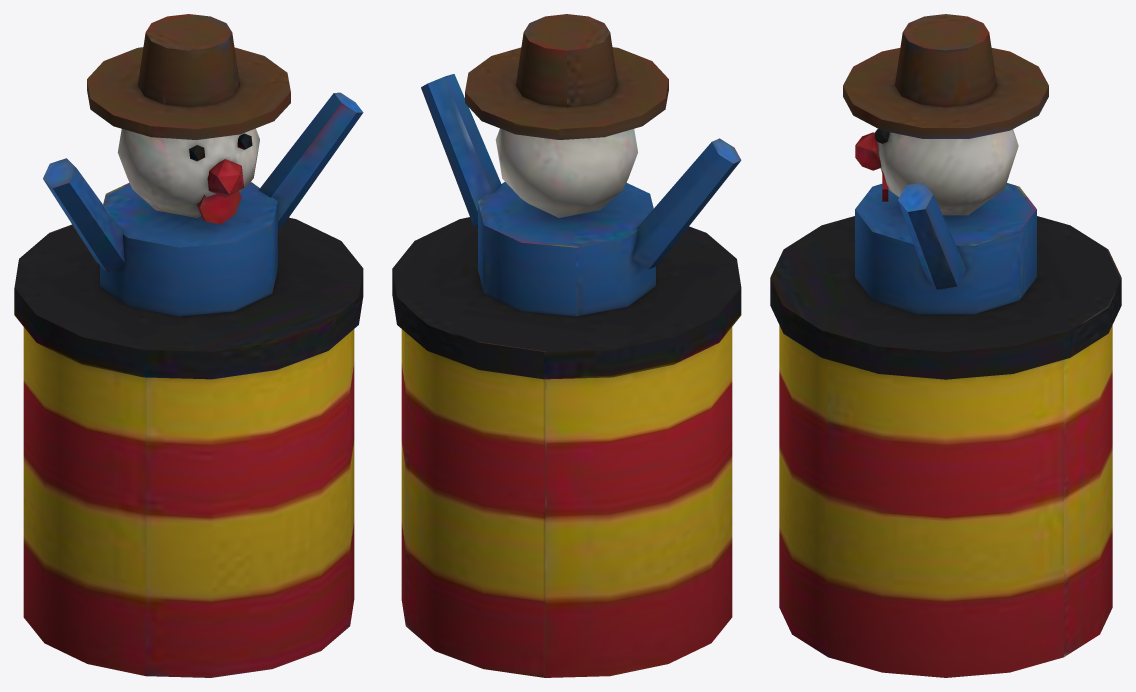
The model's file is payaso_barril.glb.
The picture shows the model from 3 angles, left to right: view 1: azimuth 30°, elevation 25°; view 2: azimuth 150°, elevation 25°; view 3: azimuth 270°, elevation 25°; orthographic projection.
Parts seen in each view (by area): view 1: payaso_barril; view 2: payaso_barril; view 3: payaso_barril.
Boxes of the visible parts, x1,y1,x2,y2 form: payaso_barril: (14,14,363,677); payaso_barril: (392,14,741,677); payaso_barril: (770,14,1121,677).
Size of the model in its own units: 1.19 by 2.09 by 1.16.
1 material, 1 textured.
